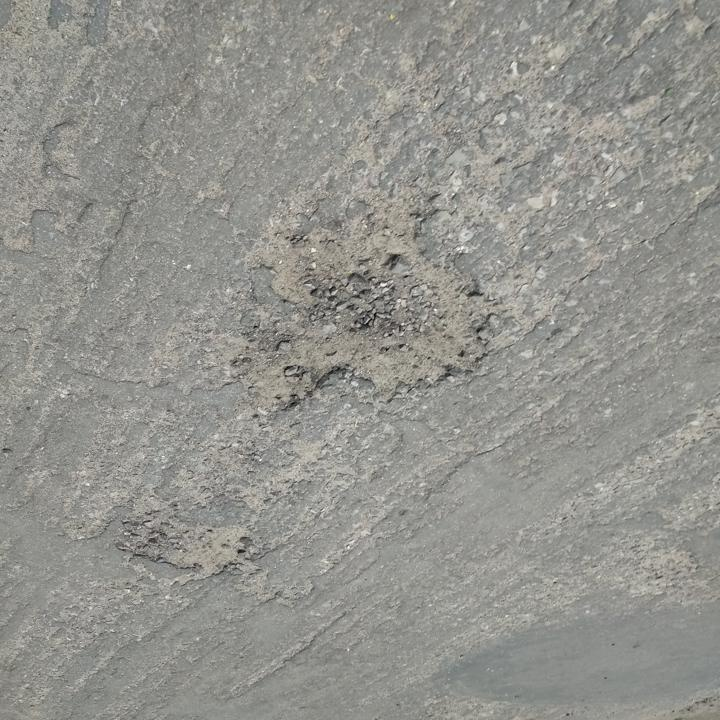pothole: (238, 195, 490, 418), (109, 512, 257, 586)
